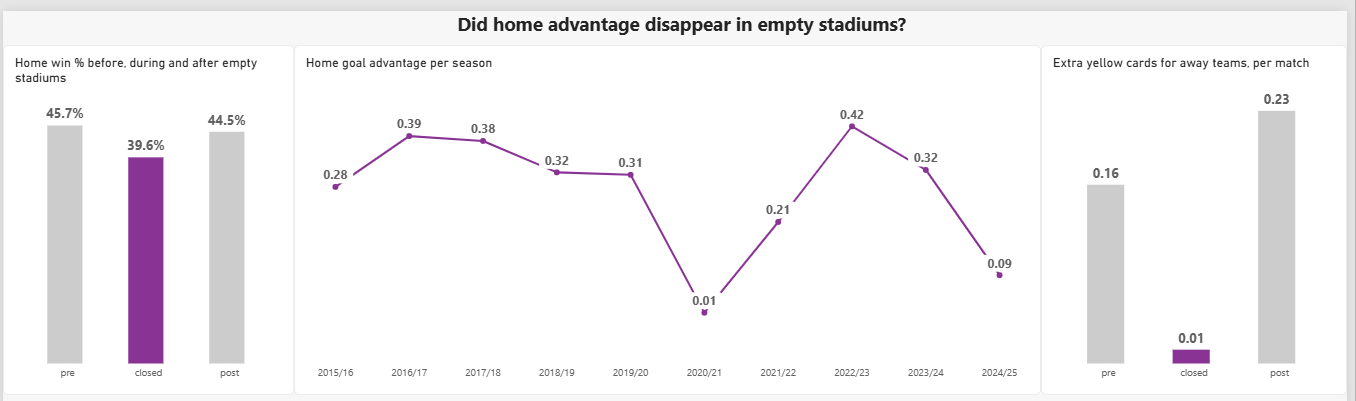

This screenshot's page, from the dashboard's own definition file:
{"tool":"powerbi","page":{"name":"Page 1","canvas":[1920,1080],"ordinal":0},"visuals":[{"type":"clusteredColumnChart","title":"Home win % before, during and after empty stadiums","fields":{"Category":["matches_clean.period"],"Y":["Avg(matches_clean.home_win)"]},"box":[0,48.6,415.7,500],"z":0},{"type":"lineChart","title":"Home goal advantage per season","fields":{"Category":["matches_clean.season"],"Y2":["Avg(matches_clean.goal_diff)"]},"box":[415.7,48.6,1067.1,500],"z":1},{"type":"clusteredColumnChart","title":"Extra yellow cards for away teams, per match","fields":{"Category":["matches_clean.period"],"Y":["Avg(matches_clean.card_diff)"]},"box":[1482.9,48.6,437.1,500],"z":2},{"type":"textbox","box":[644.3,0,650,48.6],"z":3}]}

Visuals, with their boxes on the page's 1920x1080 design canvas (x1, y1, x2, y2). These are canvas units, not pixel positions in the 1356x401 screenshot, which may show the page scaled, cropped or inside an application window:
"Home win % before, during and after empty stadiums" clusteredColumnChart: [0,49,416,549]
"Home goal advantage per season" lineChart: [416,49,1483,549]
"Extra yellow cards for away teams, per match" clusteredColumnChart: [1483,49,1920,549]
textbox: [644,0,1294,49]
